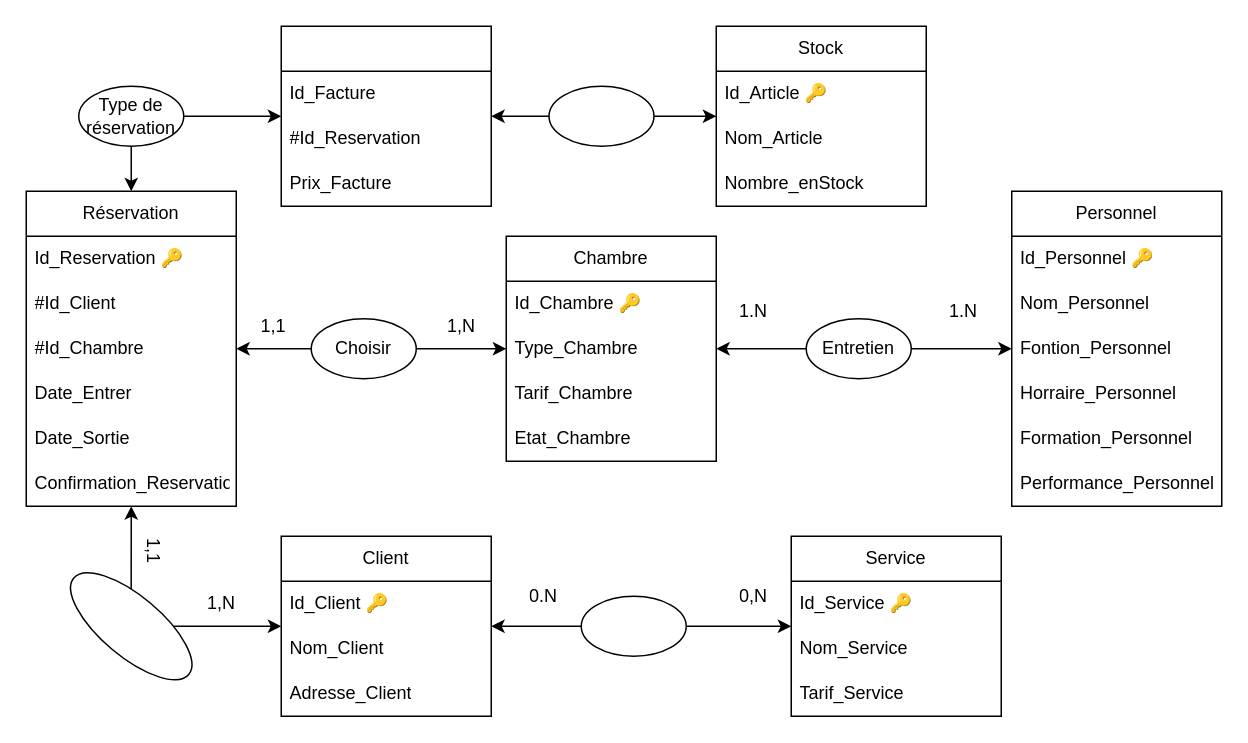
The diagram is 1248 pixels wide and 743 high, and some of its shapes have lost their labels. The shapes that lost their labels are listed below. From the top down, each one's box as (x1, y1, x2, y2) in pixels, then its label:
(280, 25, 491, 206): Facturation
(548, 85, 654, 146): Utilisé
(53, 553, 208, 698): Réserver
(580, 595, 686, 656): Commander
